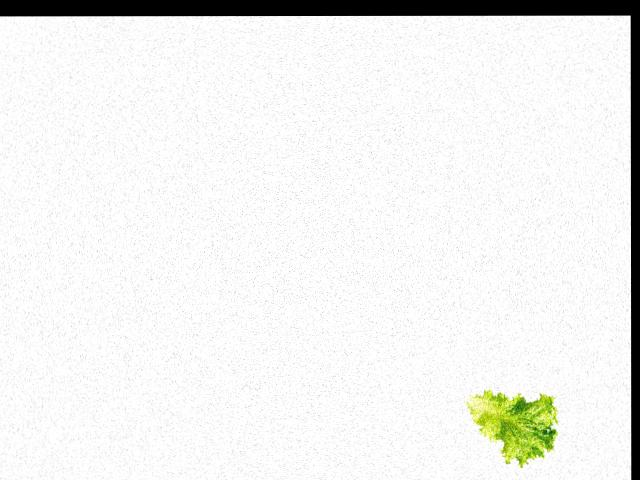lettuce: (464, 393, 558, 466)
